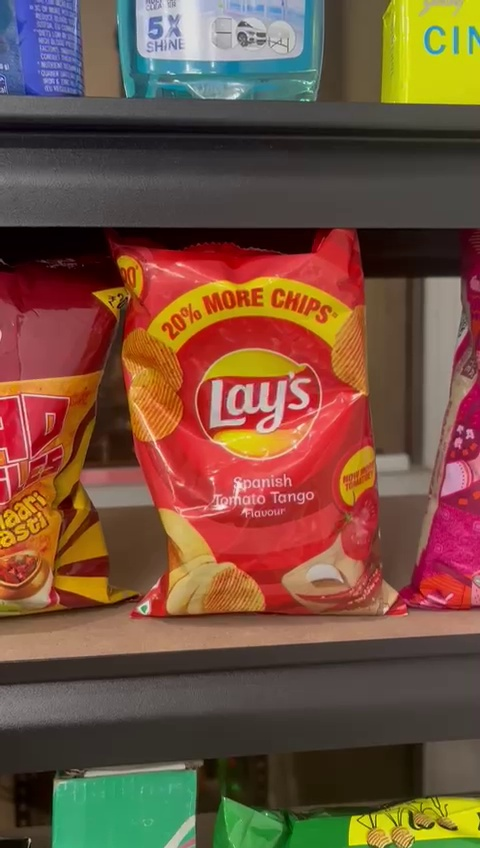Lays: (120, 243, 386, 616)
